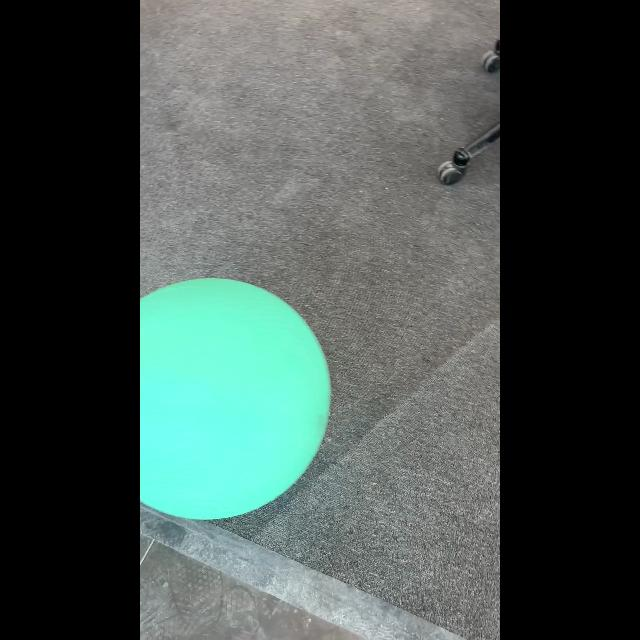ALGAE: (140, 277, 332, 521)
